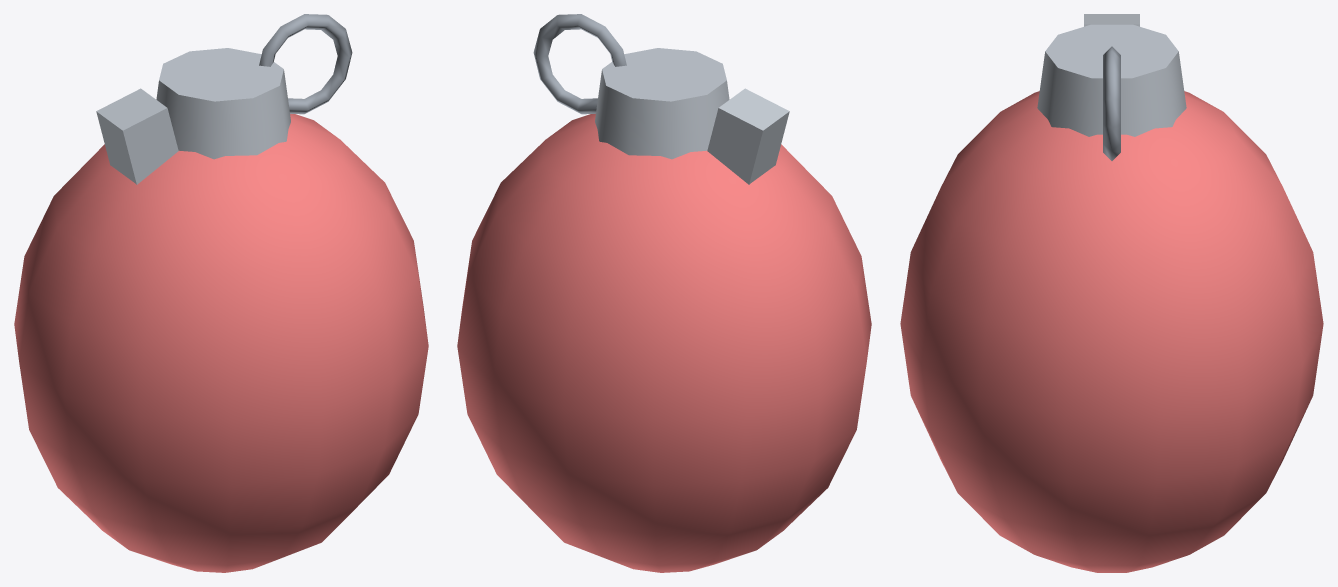
File: ClusterGrenadeCluster.fbx
3 renders of one model, left to right at view 1: azimuth 30°, elevation 25°; view 2: azimuth 150°, elevation 25°; view 3: azimuth 270°, elevation 25°, orthographic. The views are drawn at different scales.
Visible parts, largest first — view 1: grenade_cluster_small; view 2: grenade_cluster_small; view 3: grenade_cluster_small.
Boxes of the visible parts, left/top/right/bottom form: grenade_cluster_small: left=14, top=14, right=428, bottom=572; grenade_cluster_small: left=457, top=14, right=871, bottom=572; grenade_cluster_small: left=900, top=14, right=1323, bottom=572.
Bounding box in the file's own units: 0.1755 × 0.2439 × 0.171.
